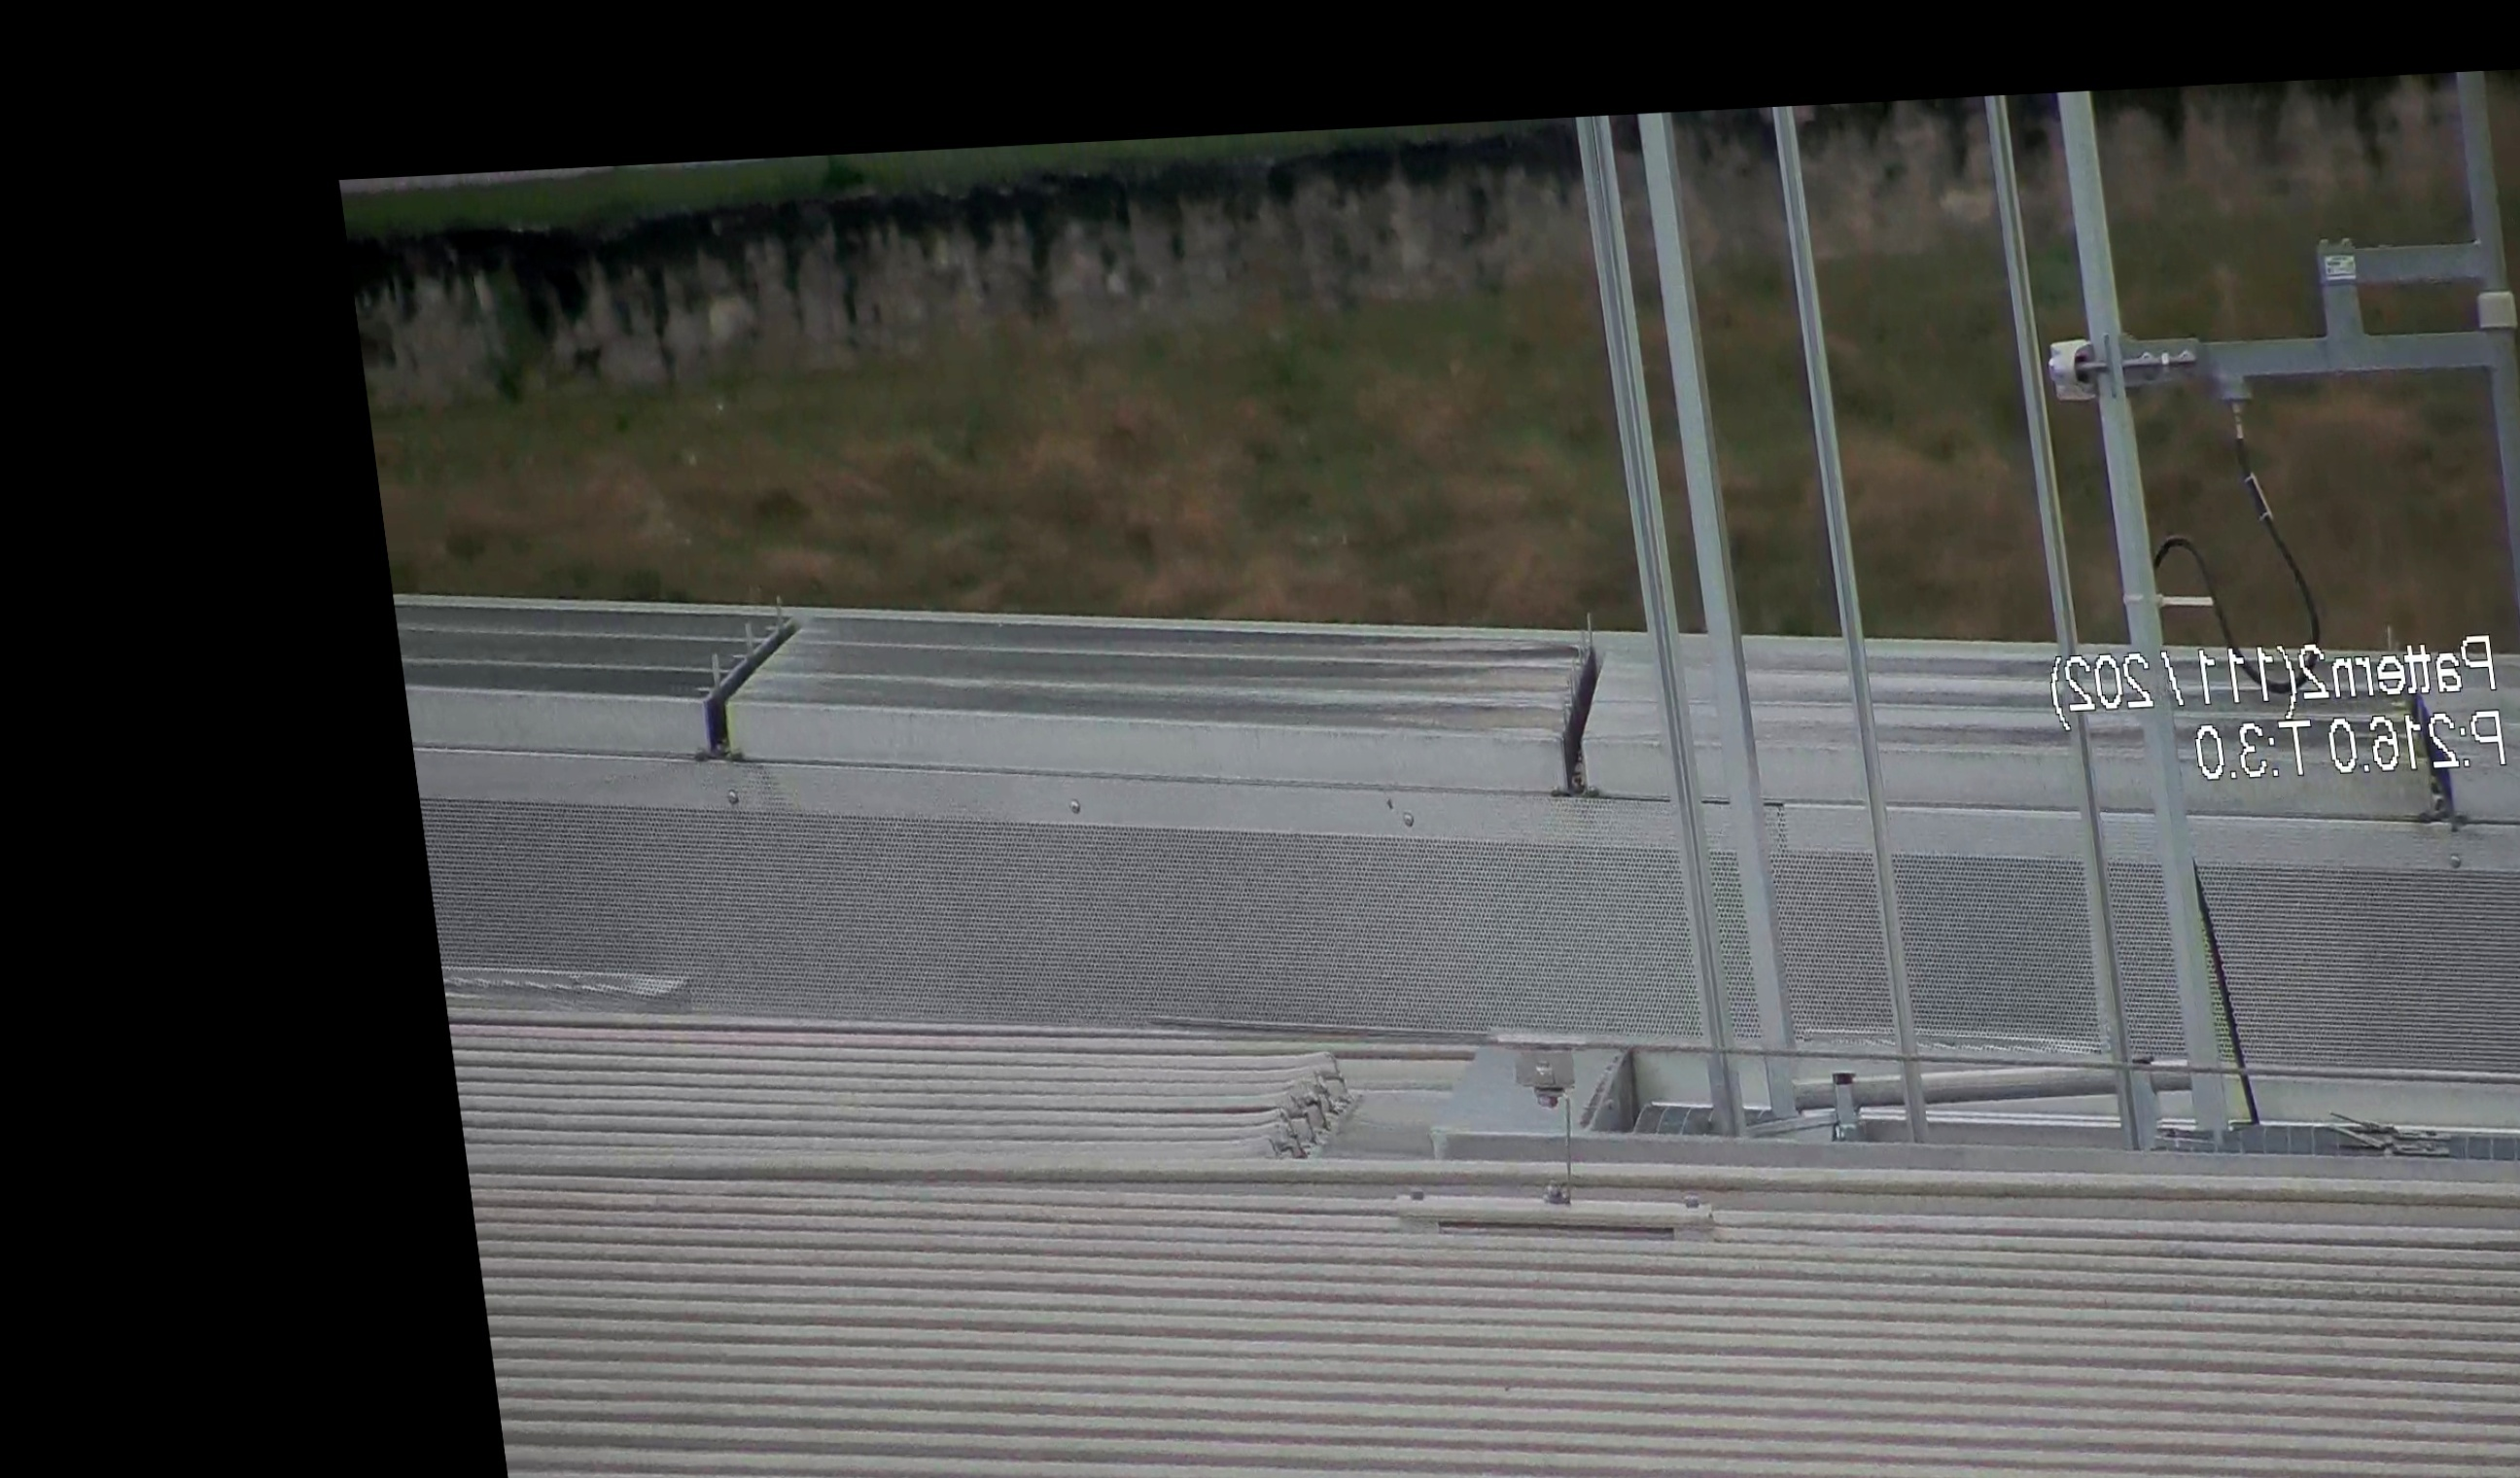Other: (1528, 618, 1639, 811)
